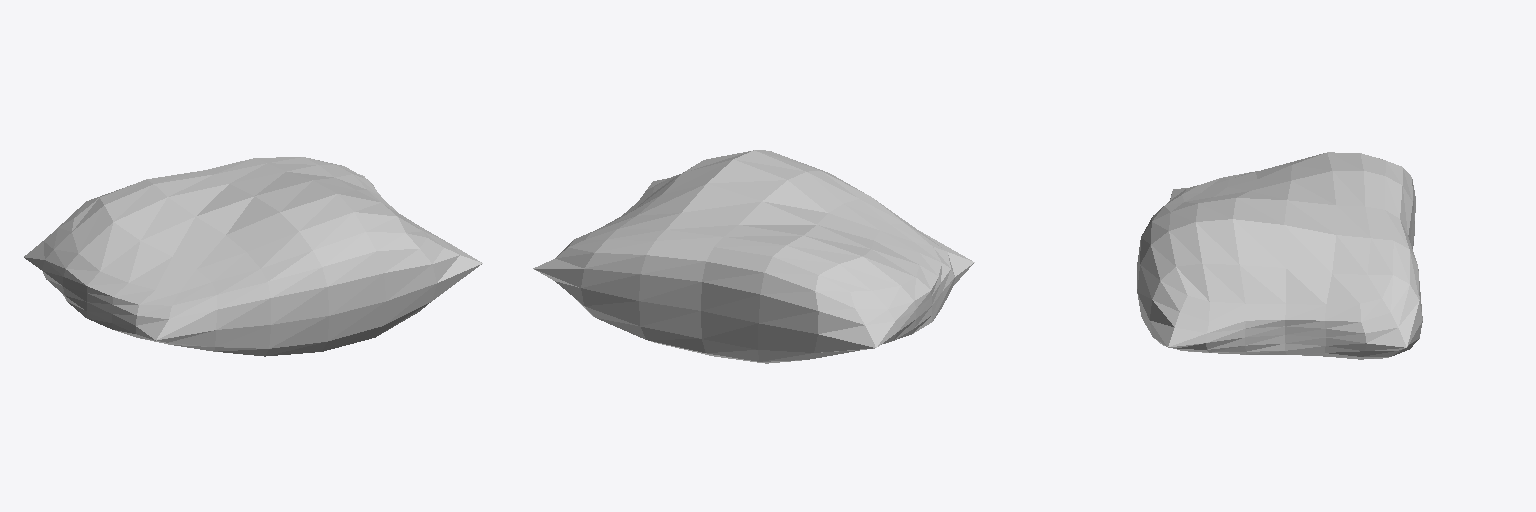
File: pillow2.obj
The picture shows the model from 3 angles: view 1: azimuth 30°, elevation 25°; view 2: azimuth 150°, elevation 25°; view 3: azimuth 270°, elevation 25°; orthographic projection.
Visible parts, largest first — view 1: pilow2; view 2: pilow2; view 3: pilow2.
Part boxes in pixels (left/top/right/bottom): pilow2: left=24, top=157, right=482, bottom=356; pilow2: left=533, top=150, right=974, bottom=363; pilow2: left=1137, top=152, right=1422, bottom=359.
Size of the model in its own units: 1.07 by 0.3889 by 0.7715.